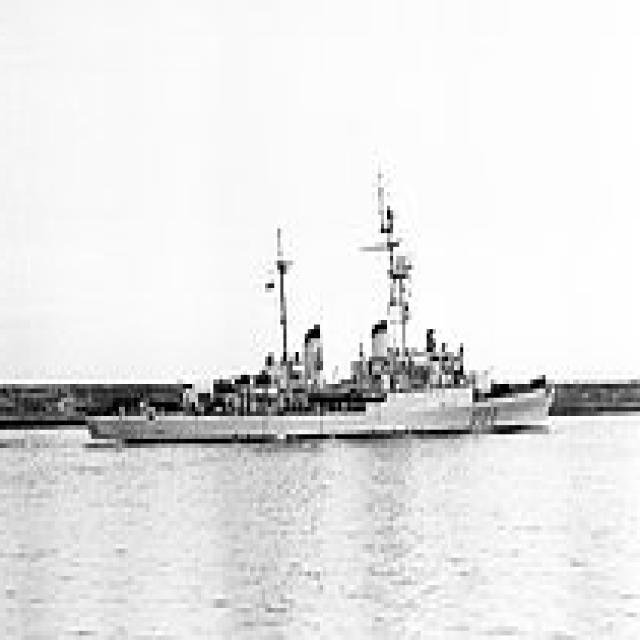Warship: (76, 160, 558, 439)
